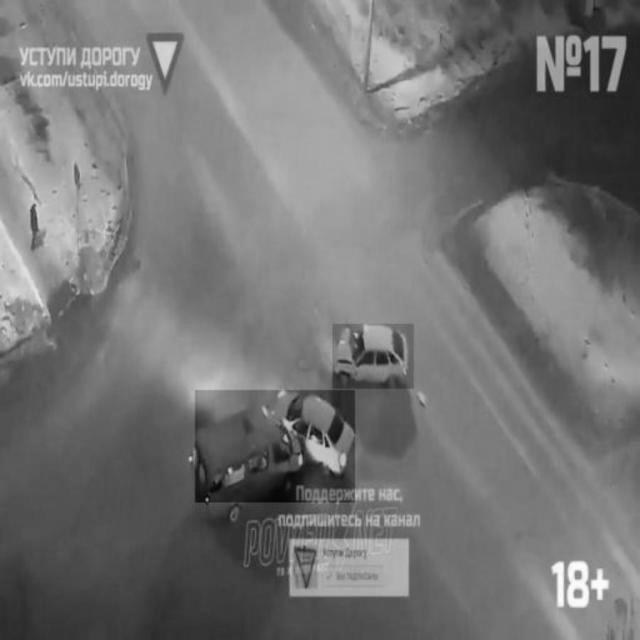accident: (195, 390, 355, 503)
vehicle: (333, 325, 414, 389)
